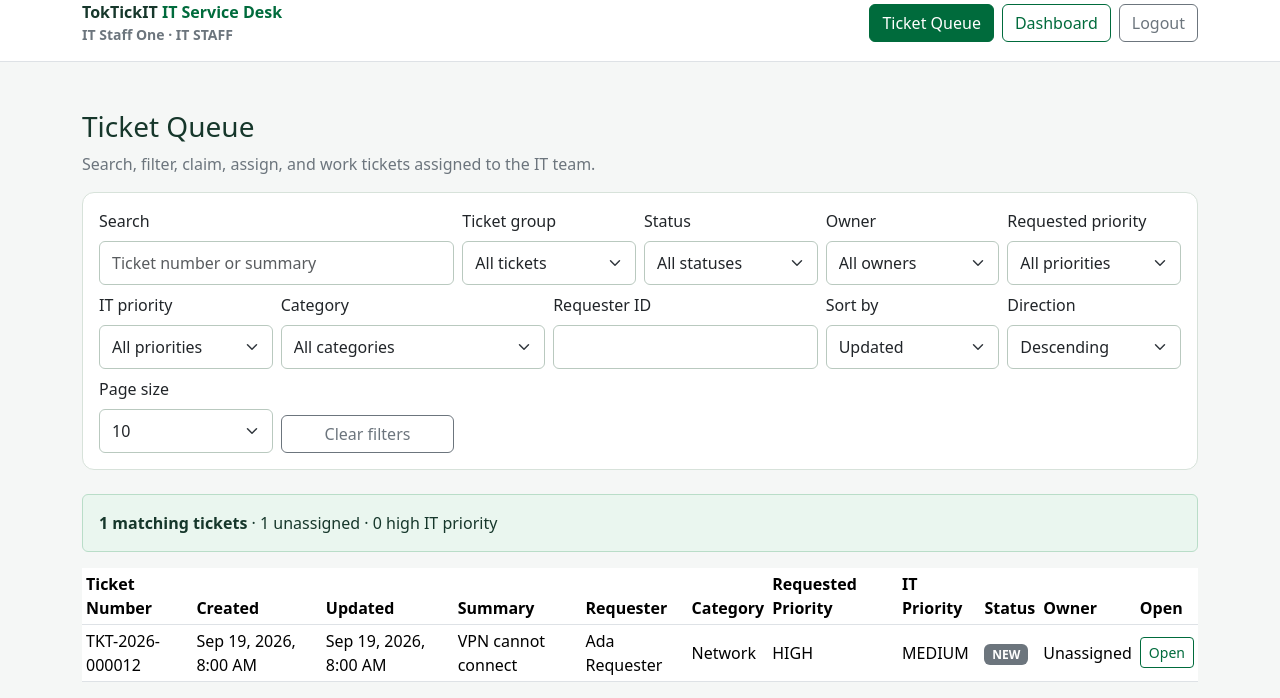
it: production Lab 3 screens › renders the production staff queue and detail attachment action
Click the button "Ticket Queue": {"x": 932, "y": 22} [869,4,994,42]
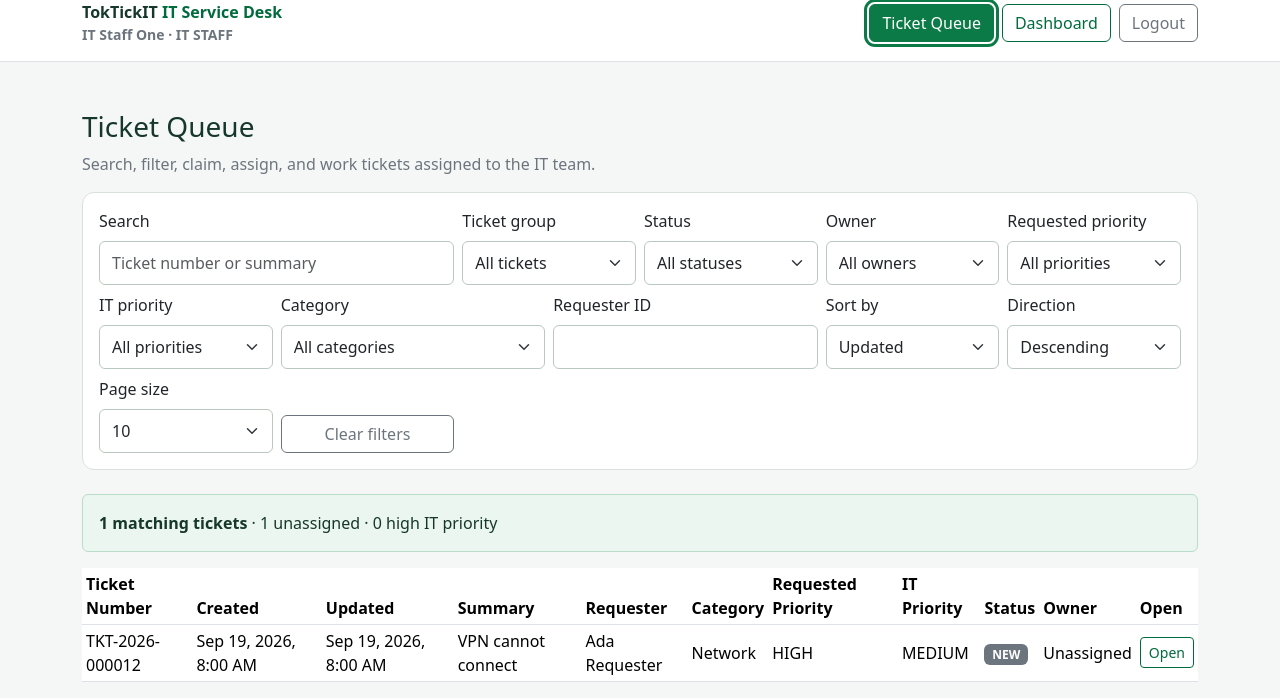
Expected: the heading "Ticket Queue" is shown, [82,107,254,145]
Expected: the text "Requester ID" is shown, [553,293,651,317]
Click the button with aria-label "Open TKT-2026-000012": {"x": 1167, "y": 653} [1140,637,1194,668]
(page scrolled)
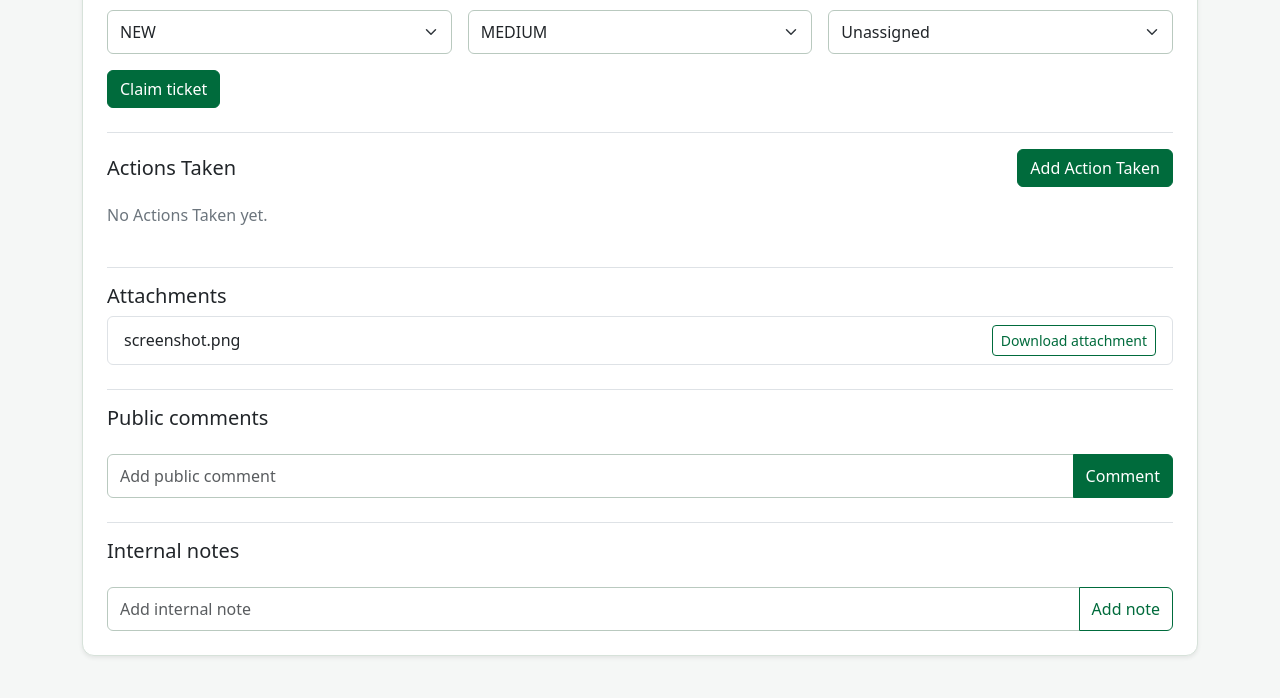
Result: the button "Download attachment" is shown at [992,325,1156,356]
Result: the heading "Internal notes" is shown at [107,537,239,564]
